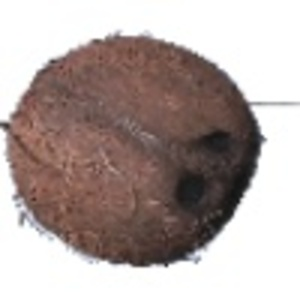coco: (5, 36, 266, 268)
